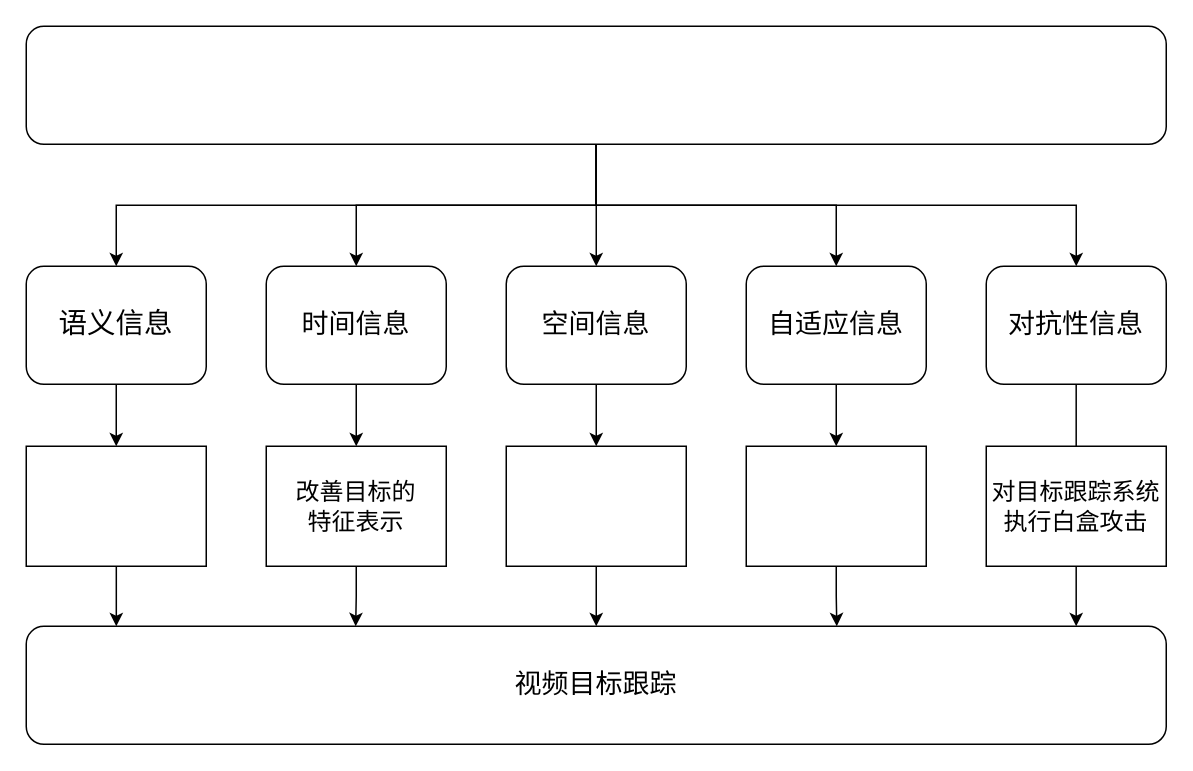
The diagram is 1193 pixels wide and 771 high, and some of its shapes have lost their labels. Here are the shapes that lost their labels. From the top down, the box of each, then its label:
(25, 25, 1166, 144): 卷积神经网络
(25, 445, 206, 566): 约束相关滤波 跟踪器的学习
(505, 445, 686, 566): 消除跟踪过程 中的累计误差
(745, 445, 926, 566): 提高对特定物 体的跟踪能力
